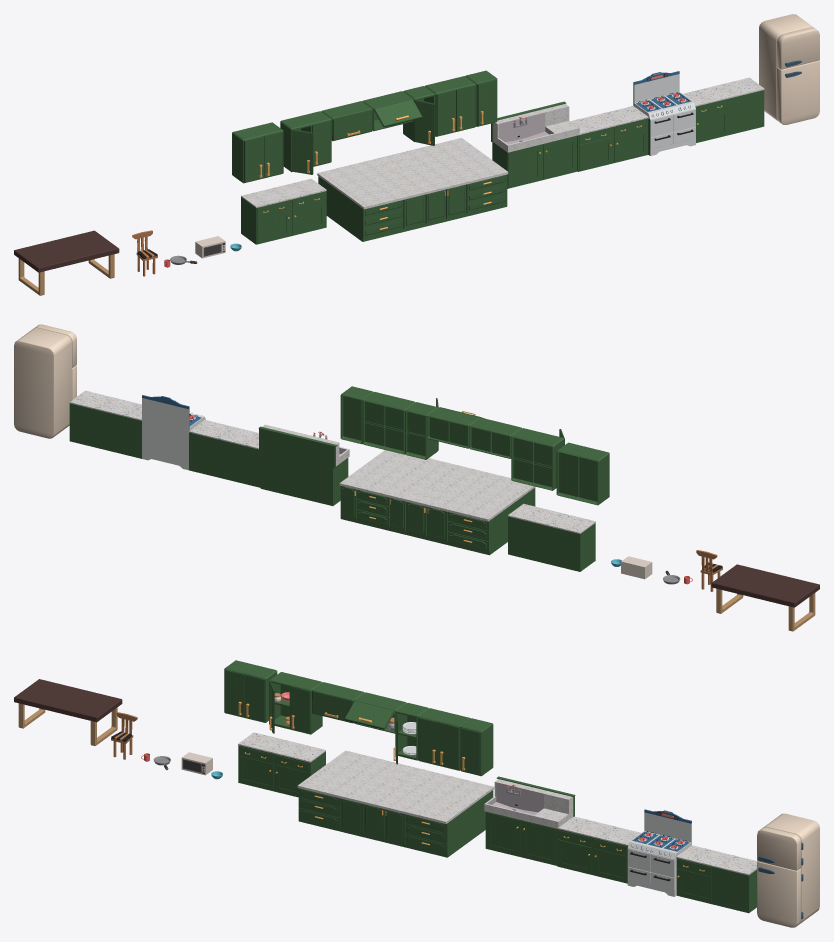
File: KItchenn.fbx
3 renders of one model, top to bottom at view 1: azimuth 30°, elevation 25°; view 2: azimuth 150°, elevation 25°; view 3: azimuth 330°, elevation 25°, orthographic. The views are drawn at different scales.
Parts seen in each view (by area): view 1: Kitchen.002, Kitchen.003, Kitchen.005, Refrigerator, Kitchen.004, table, Kitchen.01, Table CHair, OVn; view 2: Kitchen.002, Kitchen.003, Kitchen.005, Refrigerator, Kitchen.004, table, Kitchen.01, OVn, Table CHair; view 3: Kitchen.002, Kitchen.003, Kitchen.005, Refrigerator, Kitchen.004, table, Kitchen.01, Table CHair, OVn.
Part boxes in pixels (left/top/right/bottom): Kitchen.002: left=491, top=71, right=764, bottom=188; Kitchen.003: left=317, top=138, right=508, bottom=241; Kitchen.005: left=280, top=70, right=497, bottom=174; Refrigerator: left=759, top=14, right=819, bottom=124; Kitchen.004: left=241, top=178, right=326, bottom=244; table: left=14, top=230, right=119, bottom=295; Kitchen.01: left=232, top=122, right=283, bottom=183; Table CHair: left=132, top=230, right=157, bottom=276; OVn: left=195, top=236, right=225, bottom=258; Kitchen.002: left=69, top=390, right=349, bottom=505; Kitchen.003: left=339, top=450, right=535, bottom=555; Kitchen.005: left=340, top=386, right=564, bottom=490; Refrigerator: left=14, top=324, right=76, bottom=438; Kitchen.004: left=508, top=503, right=595, bottom=571; table: left=711, top=564, right=819, bottom=631; Kitchen.01: left=556, top=442, right=609, bottom=505; OVn: left=621, top=556, right=652, bottom=579; Table CHair: left=696, top=550, right=722, bottom=591; Kitchen.002: left=484, top=776, right=757, bottom=913; Kitchen.003: left=297, top=750, right=494, bottom=857; Kitchen.005: left=269, top=672, right=493, bottom=776; Refrigerator: left=757, top=813, right=819, bottom=927; Kitchen.004: left=238, top=732, right=325, bottom=797; table: left=14, top=679, right=122, bottom=745; Kitchen.01: left=224, top=660, right=277, bottom=722; Table CHair: left=111, top=712, right=137, bottom=759; OVn: left=181, top=752, right=212, bottom=775.
Bounding box in the file's own units: 1636 × 222 × 182.
